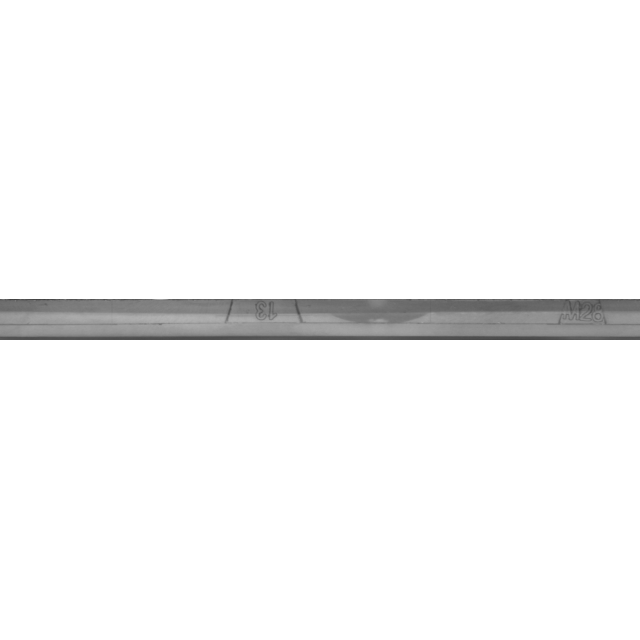mohao: (474, 270, 640, 370)
xuehao: (163, 270, 363, 370)
